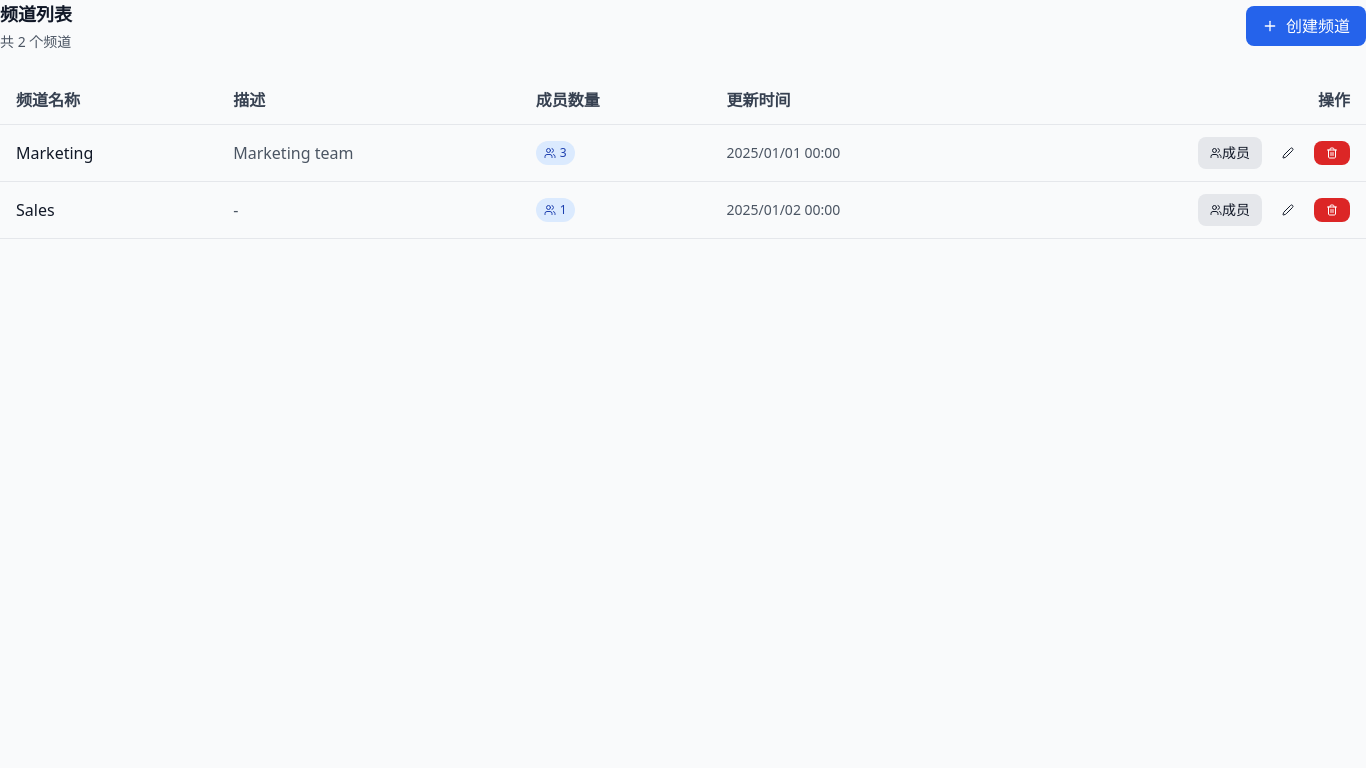
ChannelManagementTab › Create Channel › チャンネル名を入力できる
Click the button "创建频道" at (1306, 26), box top-left (1246, 6), bottom-right (1365, 46)
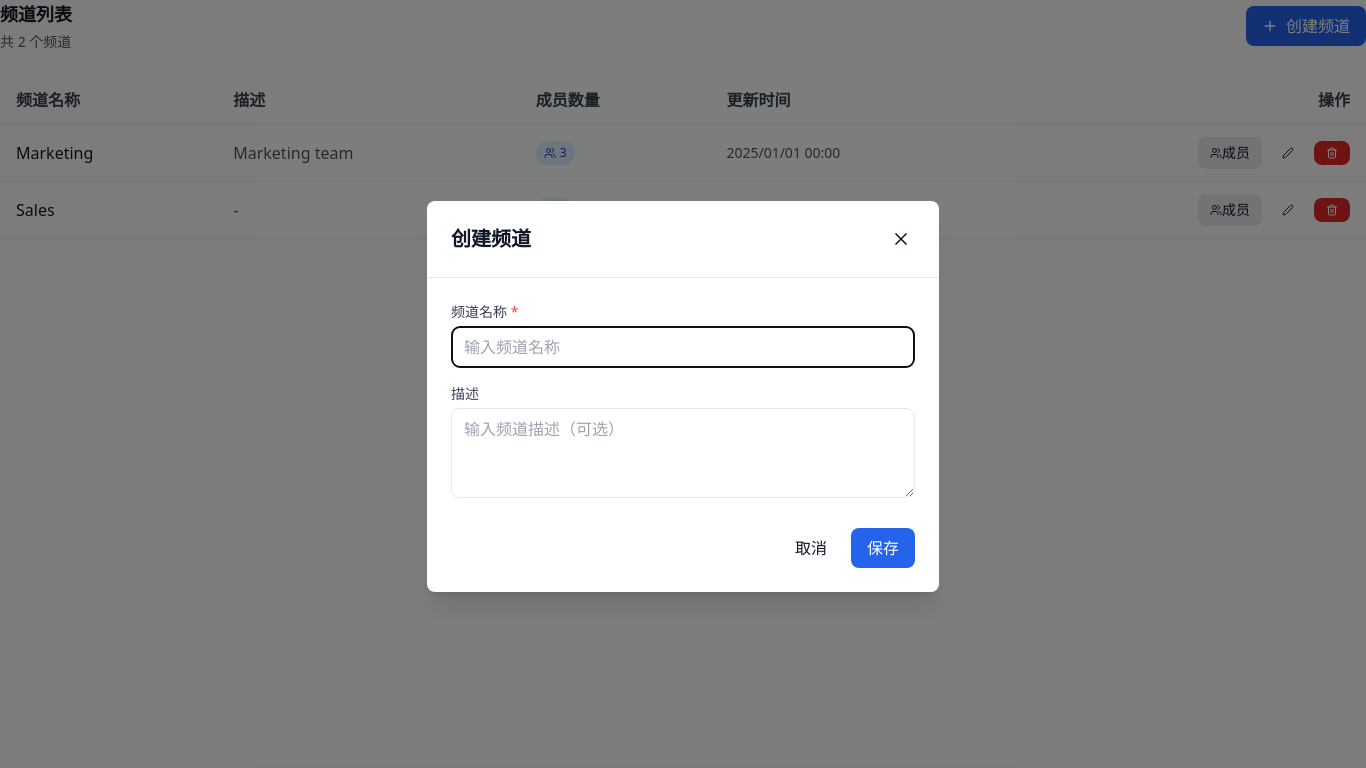
Result: the field with placeholder "输入频道名称" is shown at top-left (451, 326), bottom-right (915, 368)
